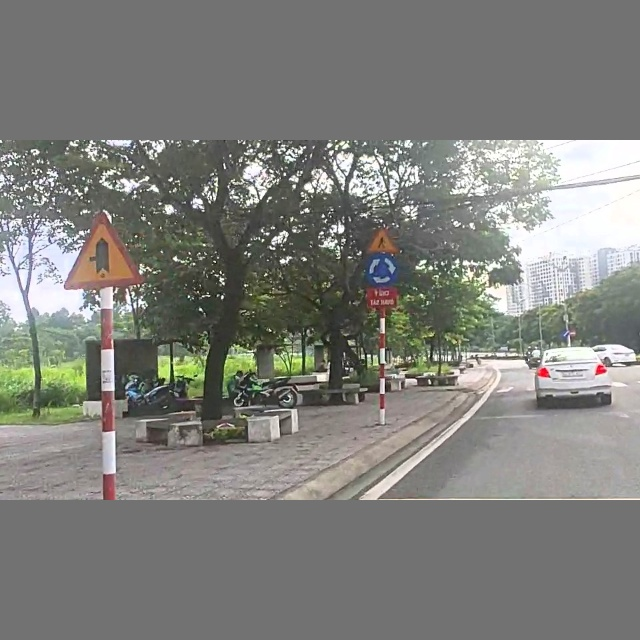P.102: (569, 328, 577, 337)
R.302a: (560, 329, 569, 338)
R.303: (361, 255, 399, 285)
W.207: (58, 209, 145, 298)
W.224: (363, 225, 399, 253)
